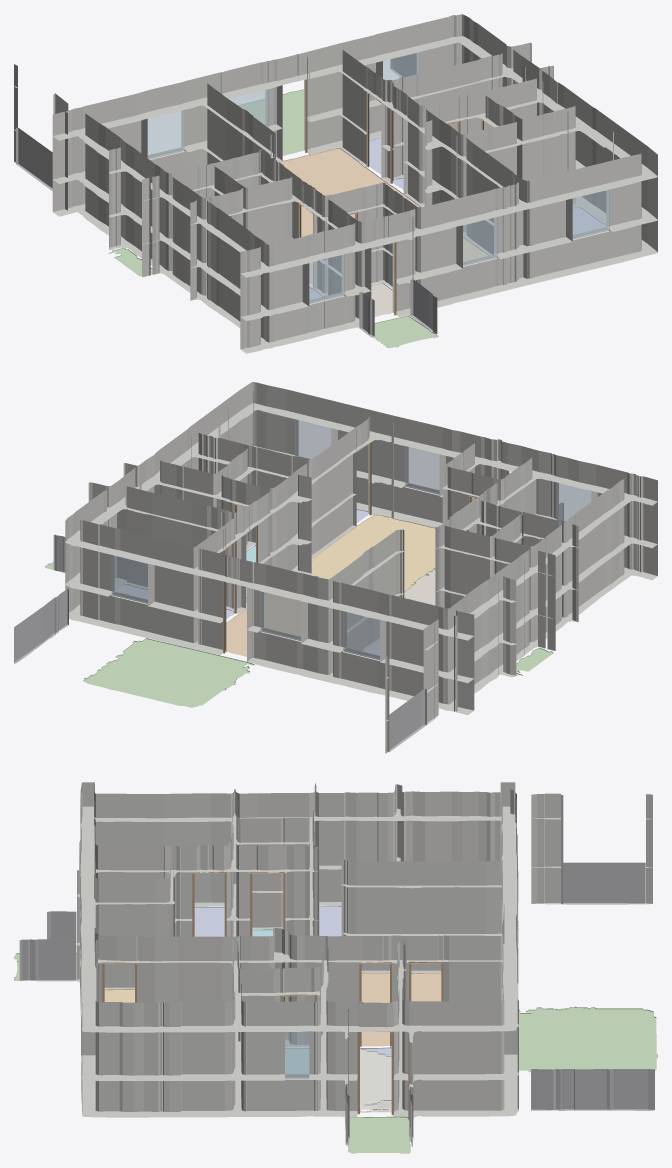
3 views of the same model, one above another, from view 1: azimuth 30°, elevation 25°; view 2: azimuth 150°, elevation 25°; view 3: azimuth 270°, elevation 25° (orthographic). The views are drawn at different scales.
Parts seen in each view (by area): view 1: walls, railings, floor_5_Living_Room, floor_3_Outdoor, window_19, window_13, window_20, window_18, floor_0_Outdoor, window_15, window_14, floor_13_Entry (+1 smaller); view 2: walls, floor_3_Outdoor, floor_4_Kitchen, railings, floor_5_Living_Room, window_14, window_15, window_13, window_18, window_19, window_20, floor_14_Entry; view 3: walls, railings, floor_3_Outdoor, floor_5_Living_Room, floor_2_Outdoor, floor_20_Undefined, window_17, floor_6_Bed_Room, floor_9_Bed_Room, floor_12_Bath.
Part boxes in pixels (x1,y1,x2,y2): walls: (14,14,657,353); railings: (16,53,437,337); floor_5_Living_Room: (279,148,420,236); floor_3_Outdoor: (238,89,303,155); window_19: (570,186,609,238); window_13: (144,110,184,158); window_20: (309,254,344,303); window_18: (463,214,497,265); floor_0_Outdoor: (374,315,438,348); window_15: (383,52,420,80); window_14: (229,86,268,127); floor_13_Entry: (371,282,392,316); walls: (65,382,657,753); floor_3_Outdoor: (83,638,254,707); floor_4_Kitchen: (310,514,435,591); railings: (14,503,563,751); floor_5_Living_Room: (226,576,318,656); window_14: (260,588,300,640); window_15: (111,552,149,602); window_13: (343,611,379,659); window_18: (405,446,442,493); window_19: (295,416,331,459); window_20: (555,482,593,521); floor_14_Entry: (404,568,435,605); walls: (77,782,652,1123); railings: (19,862,654,1146); floor_3_Outdoor: (519,1006,657,1072); floor_5_Living_Room: (361,972,441,1046); floor_2_Outdoor: (348,1116,410,1153); floor_20_Undefined: (360,1047,391,1112); window_17: (285,1031,309,1077); floor_6_Bed_Room: (194,907,224,936); floor_9_Bed_Room: (319,906,341,936); floor_12_Bath: (285,1048,308,1073).
Bounding box in the file's own units: 13.85 × 2.72 × 14.42.
